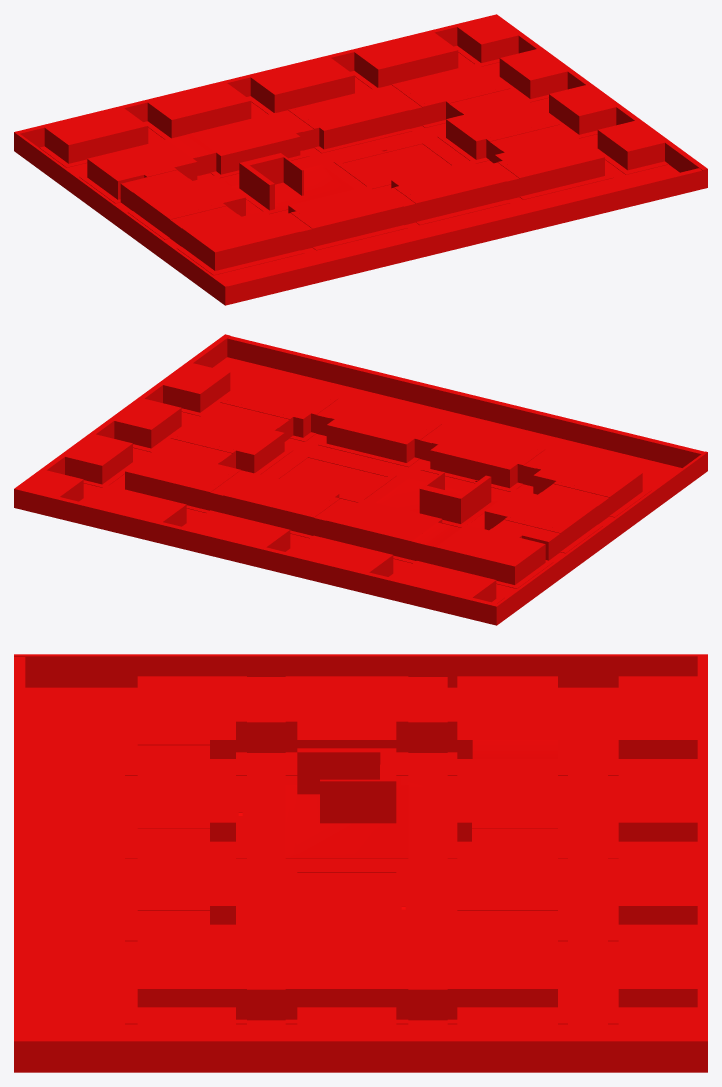
File: _ColisionesNew.FBX
3 views of the same model, one above another, from view 1: azimuth 30°, elevation 25°; view 2: azimuth 150°, elevation 25°; view 3: azimuth 270°, elevation 25° (orthographic). The views are drawn at different scales.
Parts seen in each view (by area): view 1: _Colisiones; view 2: _Colisiones; view 3: _Colisiones.
Part boxes in pixels (x1,y1,x2,y2): _Colisiones: (14,14,707,305); _Colisiones: (14,334,707,625); _Colisiones: (14,654,707,1072).
Size of the model in its own units: 21318 by 1176 by 16150.
